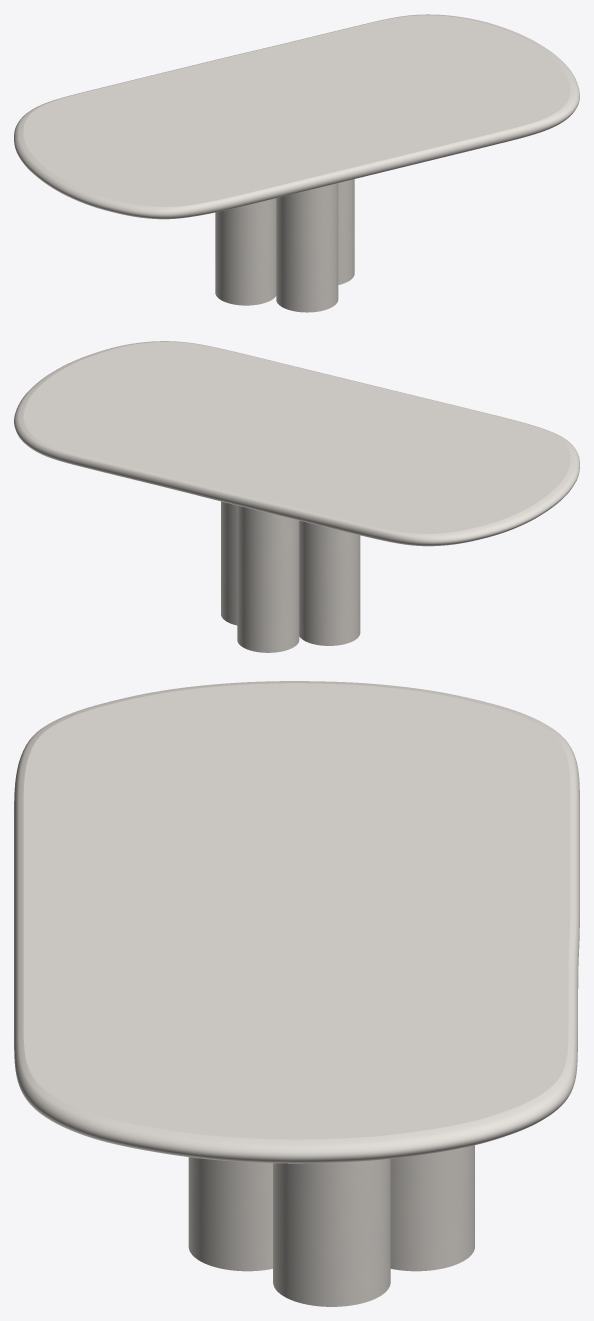
File: pearlwhite_oval_round_secondtable.glb
The picture shows the model from 3 angles, top to bottom: view 1: azimuth 30°, elevation 25°; view 2: azimuth 150°, elevation 25°; view 3: azimuth 270°, elevation 25°; orthographic projection. The views are drawn at different scales.
Parts seen in each view (by area): view 1: round_oval, secondtable; view 2: round_oval, secondtable; view 3: round_oval, secondtable.
Boxes of the visible parts, x1,y1,x2,y2 form: round_oval: (14,14,579,219); secondtable: (215,179,354,312); round_oval: (14,341,579,546); secondtable: (221,501,360,652); round_oval: (14,681,579,1163); secondtable: (188,1145,474,1306).
Bounding box in the file's own units: 7.5 × 2.5 × 3.8.
Materials: 1 (1 with a texture image).
